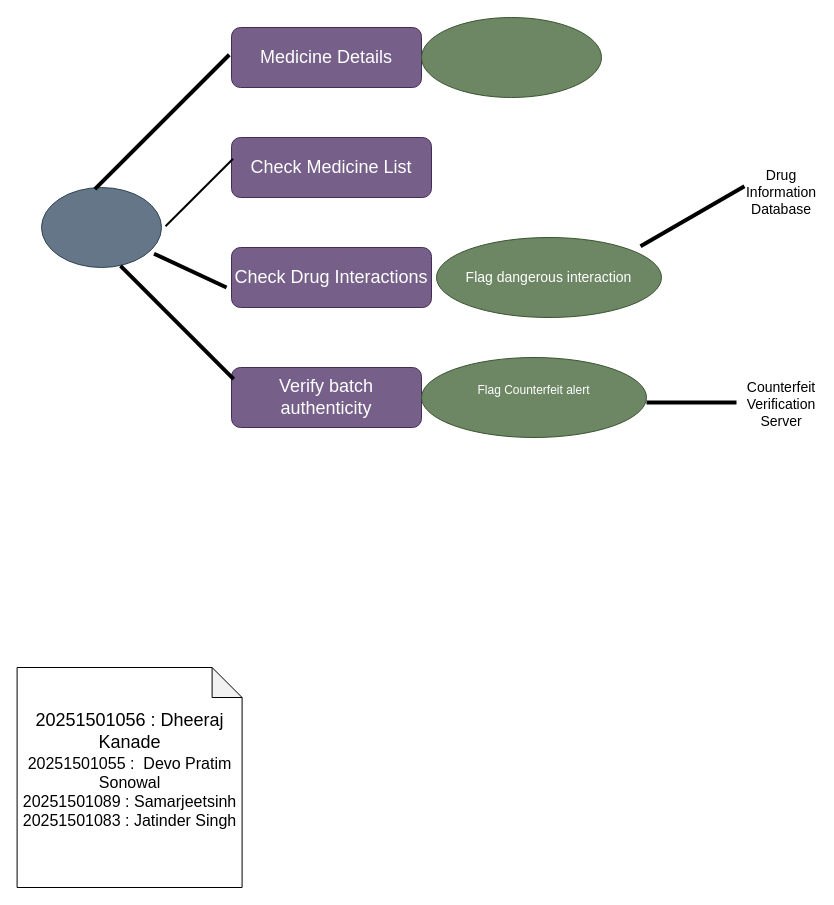
Some shapes in this 834 by 905 pixel diagram are drawn without their labels. Here are the shapes that lost their labels. From the top down, the centre of each, then its label:
At point (511, 57): "Check Batch and Authenticity".
At point (101, 227): "Patient".
